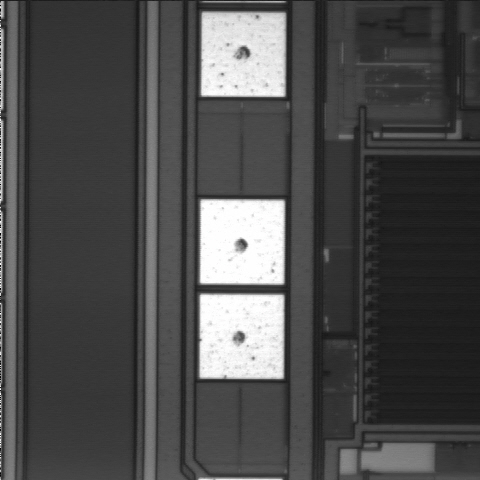pad: (200, 199, 285, 285), (201, 12, 285, 97), (200, 294, 284, 379)
